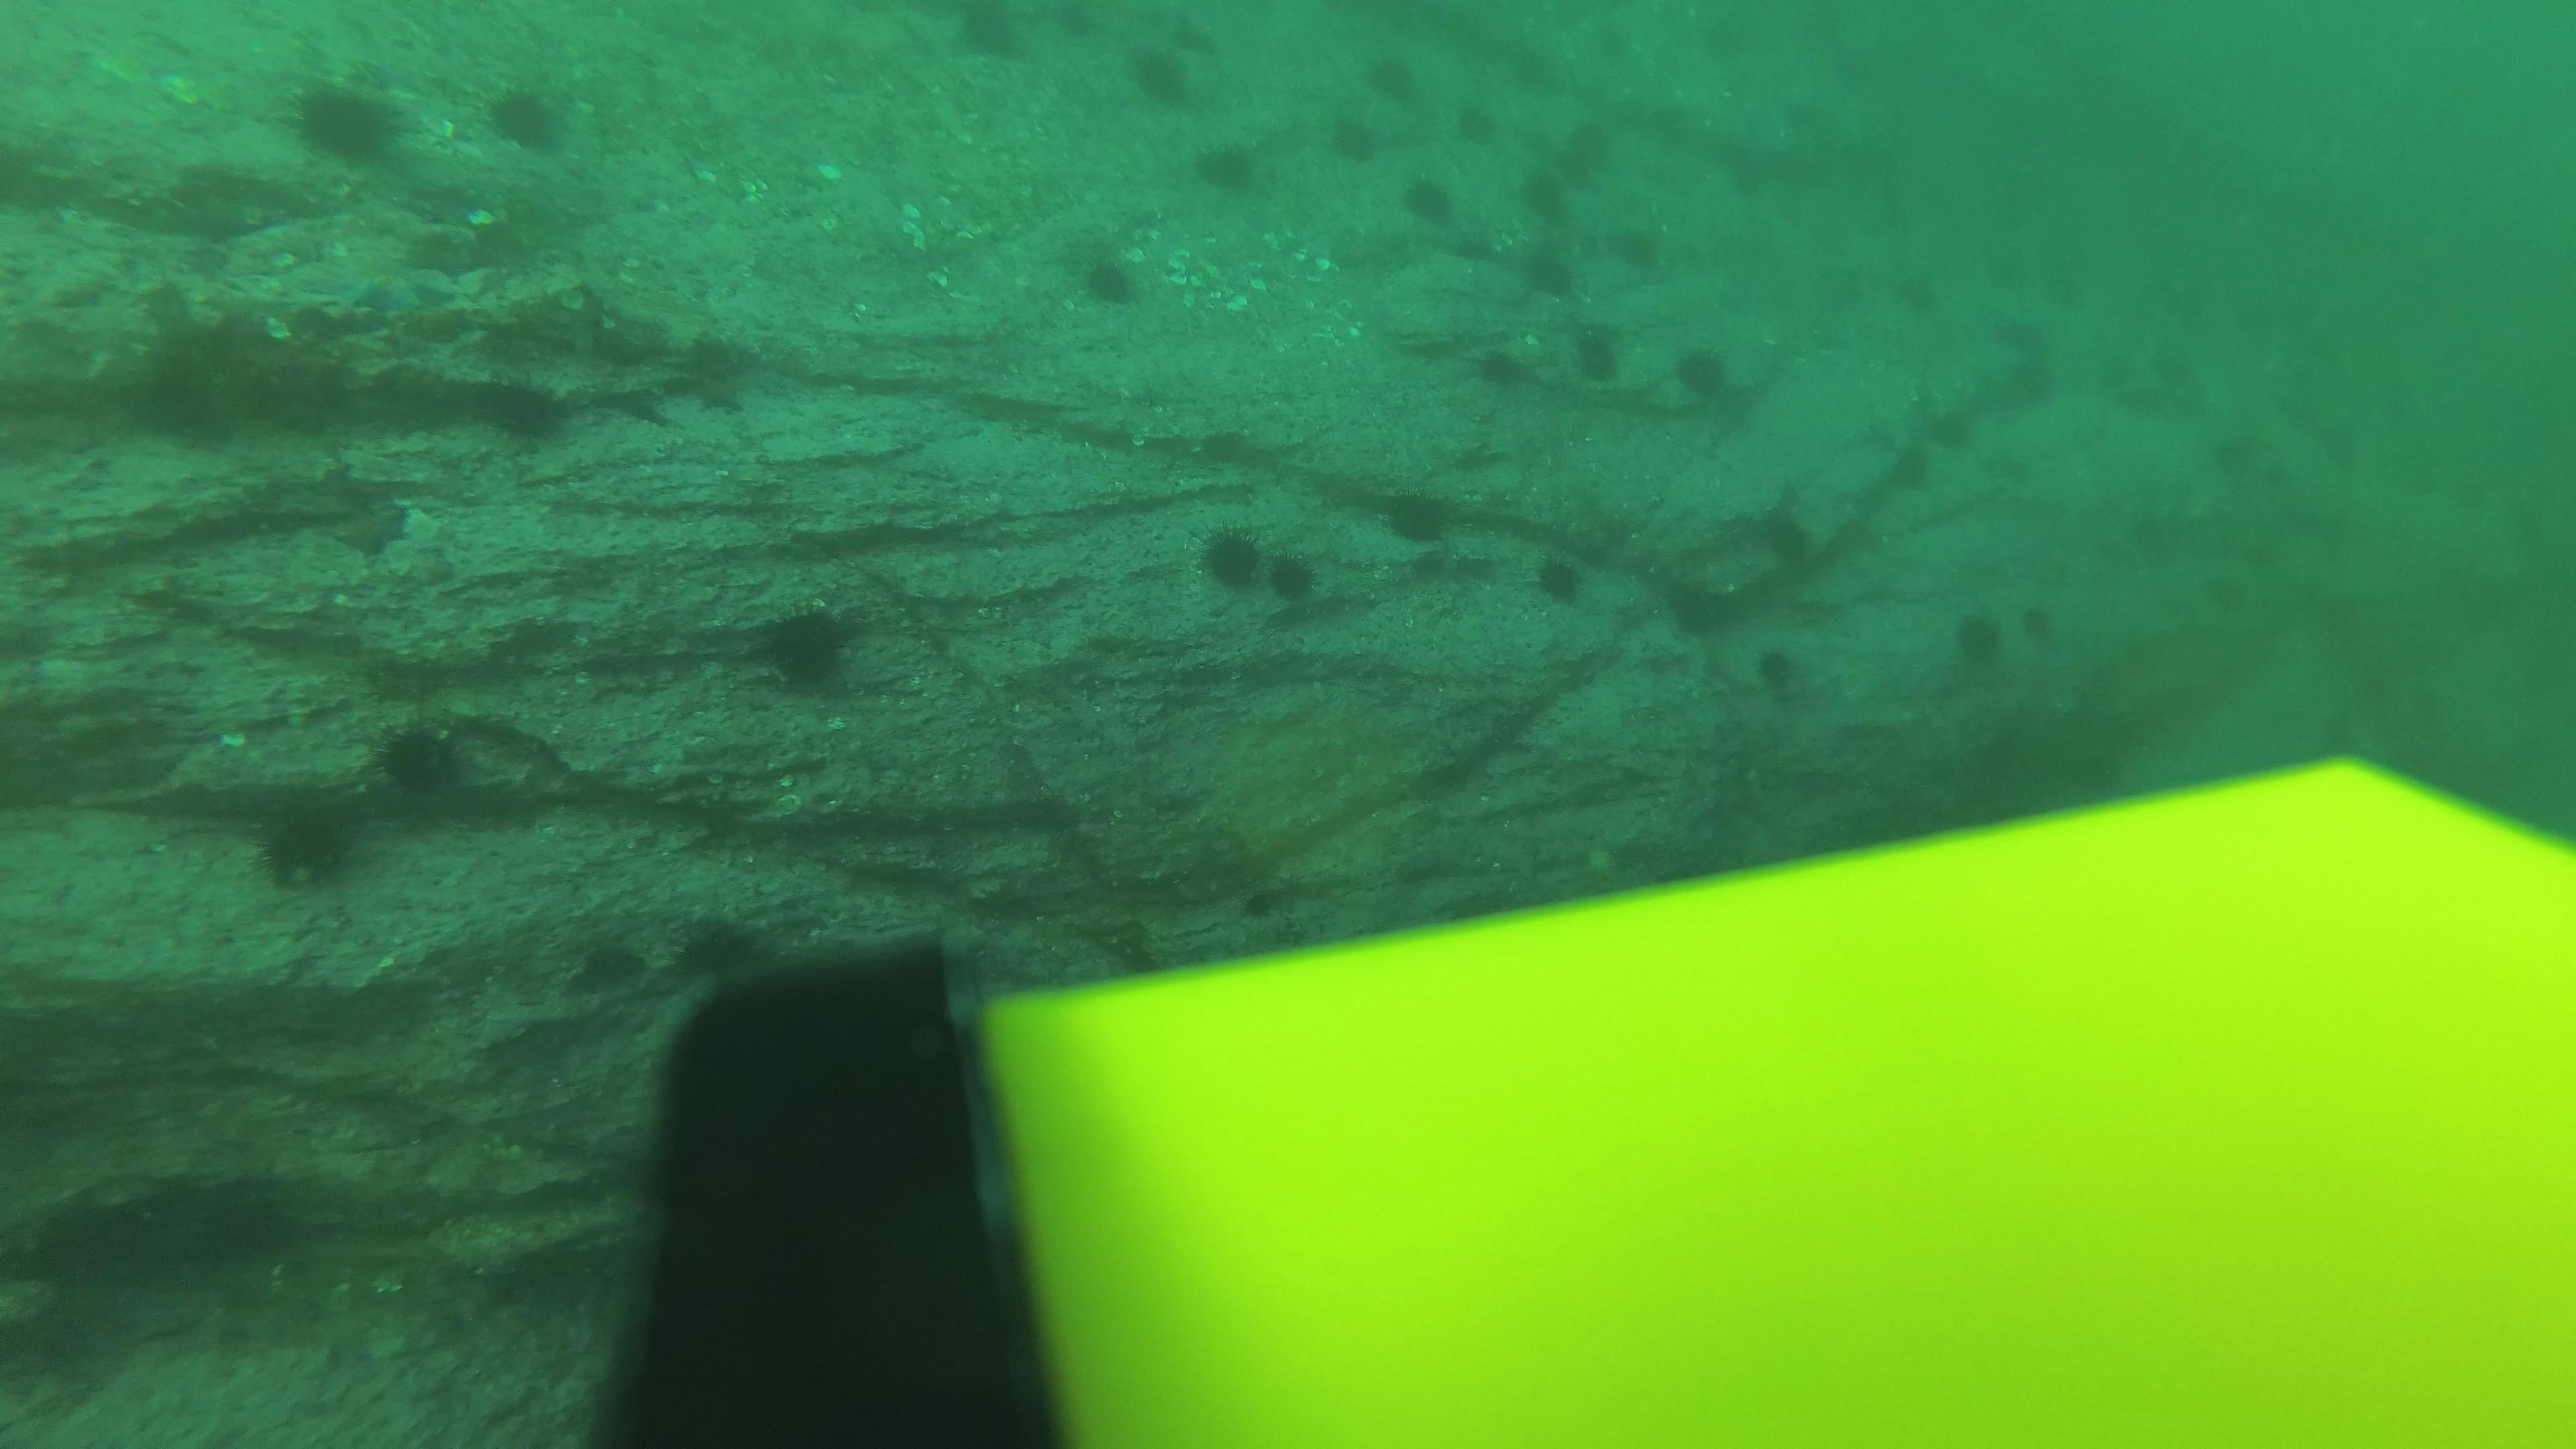echinus: (281, 69, 410, 172), (745, 596, 870, 701), (248, 791, 370, 895), (364, 713, 476, 809), (669, 908, 771, 985), (478, 76, 573, 157), (479, 373, 575, 451), (1065, 239, 1150, 315), (1375, 479, 1461, 552), (941, 2, 1035, 67), (1122, 39, 1201, 113), (1249, 543, 1329, 616), (1191, 517, 1269, 589), (1667, 338, 1743, 410), (1189, 133, 1269, 202), (1943, 602, 2013, 678), (1746, 639, 1813, 706), (1514, 241, 1583, 306), (1660, 570, 1729, 635), (1525, 547, 1594, 610), (1568, 320, 1628, 387), (1477, 336, 1537, 403), (1752, 508, 1819, 566), (1874, 444, 1941, 502), (2212, 428, 2279, 487), (2112, 380, 2180, 439), (2135, 341, 2203, 400), (1990, 303, 2058, 361), (1978, 234, 2045, 292), (2298, 416, 2365, 474), (2298, 704, 2365, 763), (2210, 568, 2275, 626), (1994, 356, 2059, 414), (1888, 260, 1953, 318), (2026, 258, 2091, 317), (1918, 403, 1985, 460), (1359, 39, 1419, 99), (1504, 27, 1564, 87), (1513, 163, 1573, 223), (1691, 9, 1752, 69), (1859, 175, 1920, 235), (1435, 97, 1497, 156), (1859, 177, 1921, 235), (1398, 170, 1458, 228), (1332, 106, 1392, 165), (1550, 120, 1610, 179), (1596, 225, 1656, 283), (1580, 4, 1640, 62), (1647, 99, 1707, 157), (1707, 145, 1767, 203), (1773, 87, 1833, 145), (1828, 57, 1888, 115), (2010, 602, 2070, 648)
starfish: (303, 248, 464, 326), (324, 494, 419, 563)
